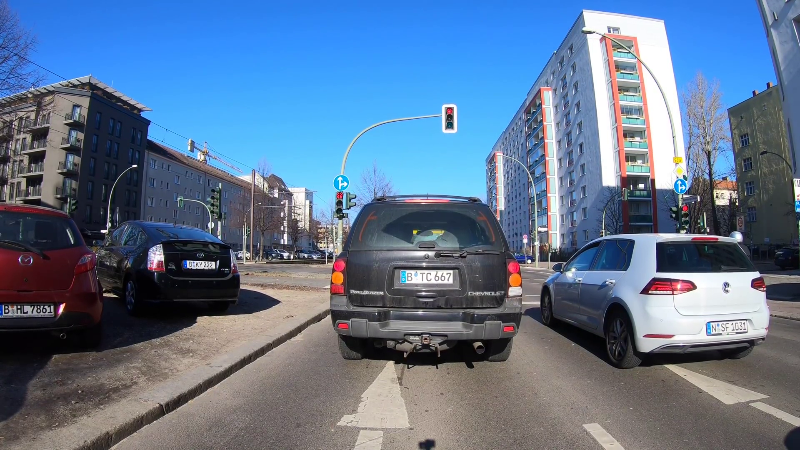Plate: (1, 300, 59, 319), (396, 268, 456, 286), (702, 318, 754, 336), (179, 257, 221, 273)
